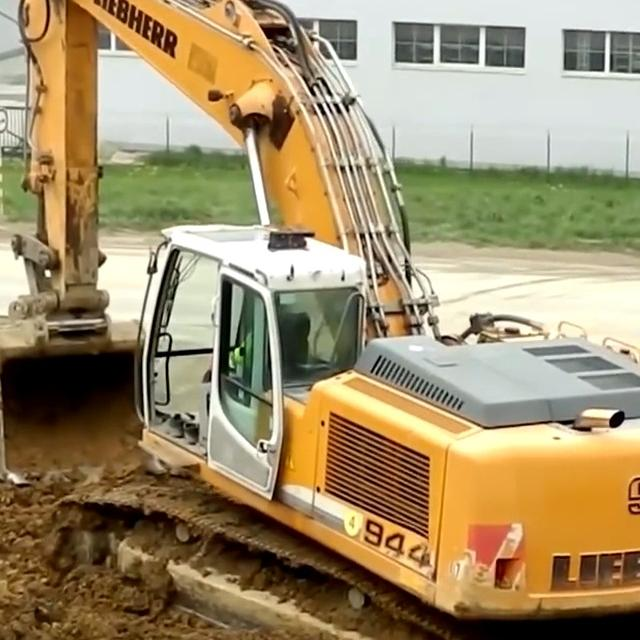Excavator: (0, 0, 640, 640)
Person: (229, 309, 269, 399)
Safety Vest: (232, 333, 251, 365)
